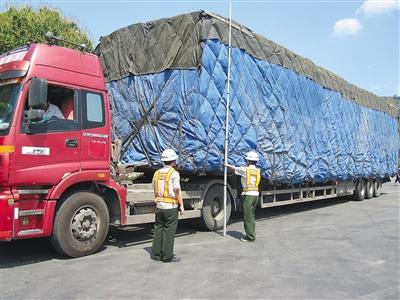chaozhai: (1, 11, 400, 261)
